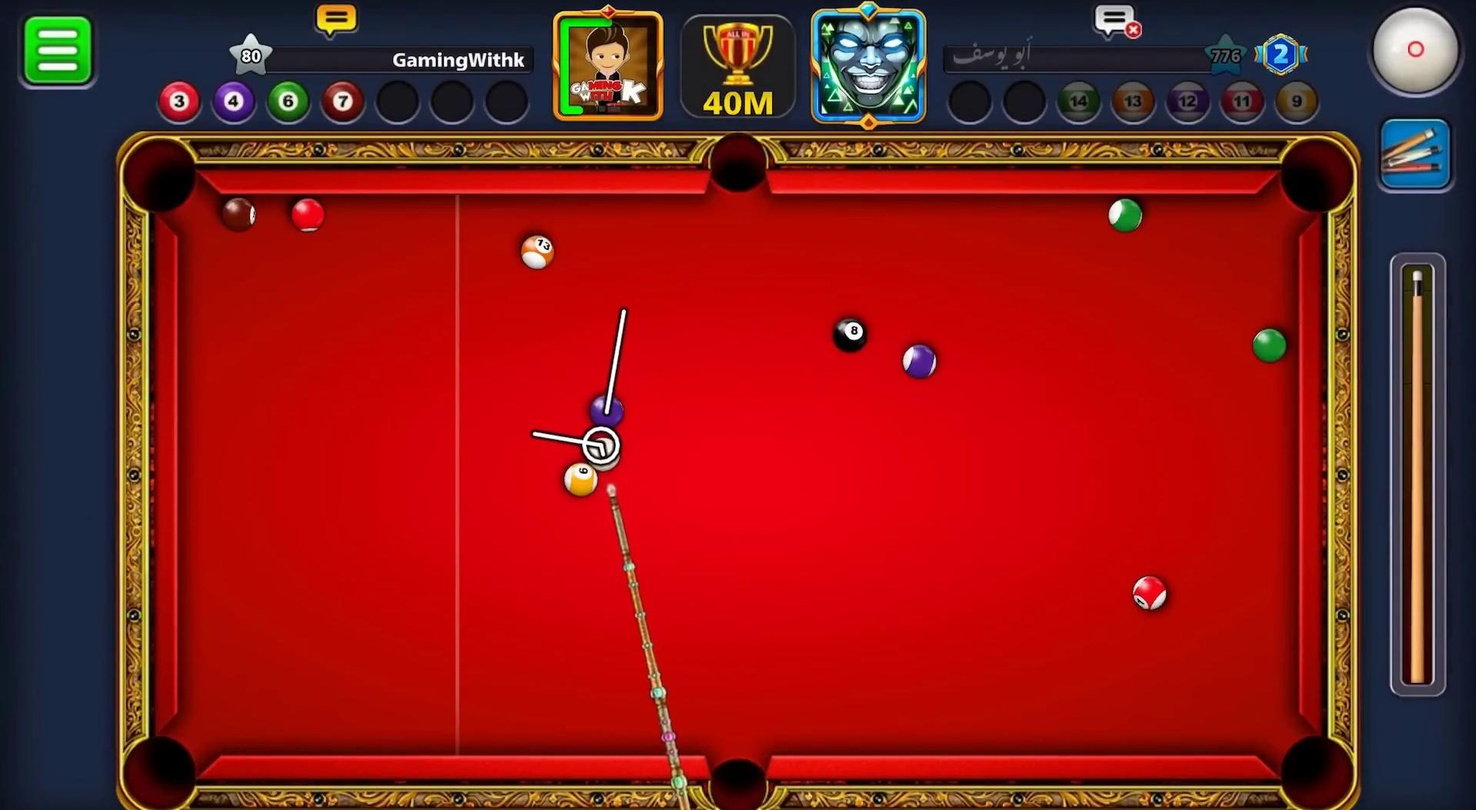Ball: (551, 461, 604, 504), (1241, 325, 1293, 365), (1129, 572, 1170, 620), (1105, 191, 1143, 234), (903, 338, 939, 378), (220, 196, 257, 233), (833, 319, 869, 356), (519, 234, 554, 271), (293, 199, 327, 235)
Force: (1392, 254, 1451, 698)
Guideline: (601, 305, 635, 415), (530, 429, 608, 459), (580, 428, 622, 466)
Hole: (1272, 132, 1356, 220), (1275, 731, 1352, 810), (124, 135, 202, 212), (126, 730, 202, 805), (702, 748, 771, 810), (708, 131, 768, 191)
Play_Area: (181, 192, 1293, 753)
Spin: (1360, 4, 1462, 99)
White: (585, 434, 623, 474)
